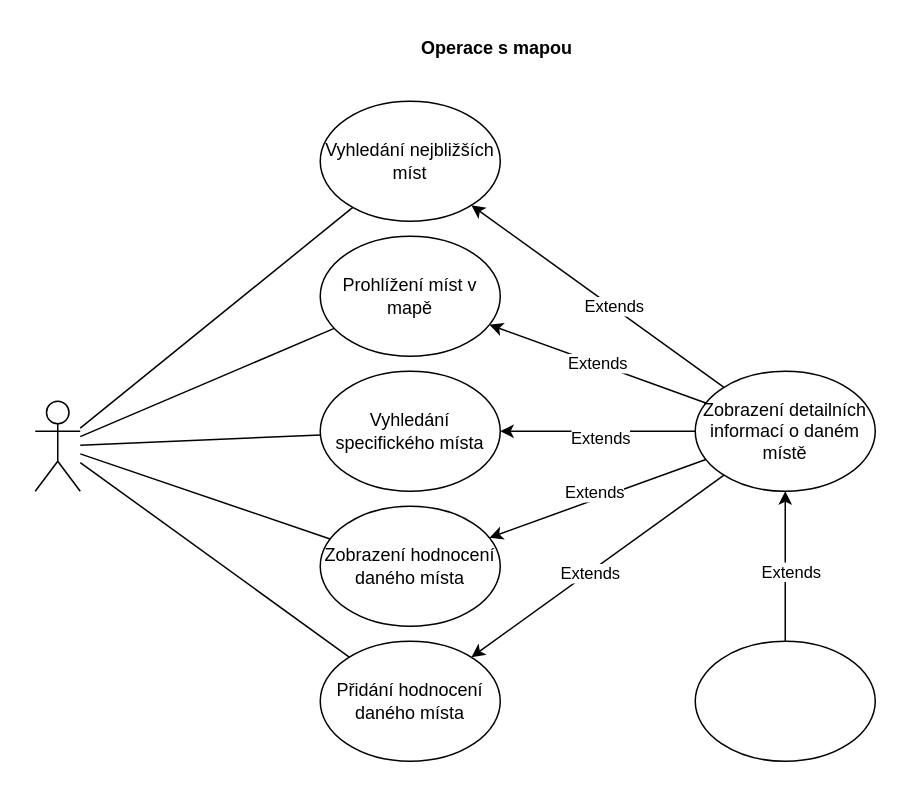
This 902x788 diagram has some shape labels left out. Each missing label, with the centre of its shape:
Navigace ke zvolenému místu pomocí externí aplikace: point (784, 700)
Uživatel: point (57, 445)
